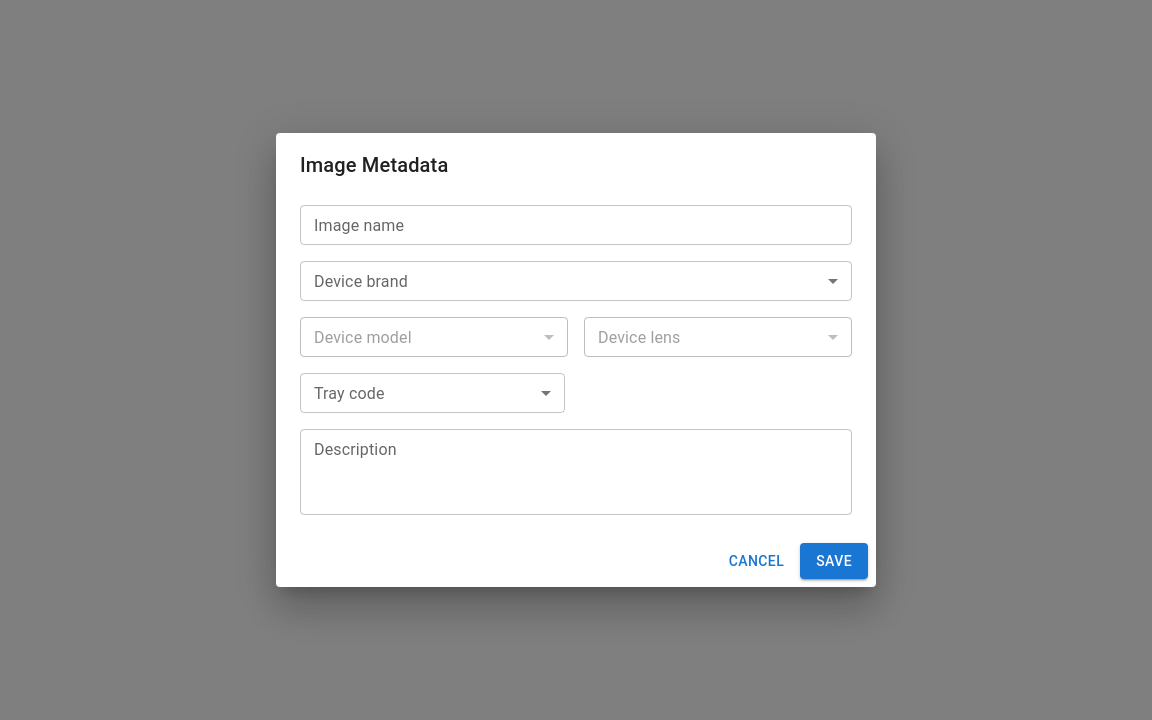
Test: MetadataDialog › image mode › shows an invalid error for an image name with forbidden characters
This screenshot has width=1152, height=720.
In the field labelled "Image name": (576, 225) [300,205,852,245], type "bad name!"
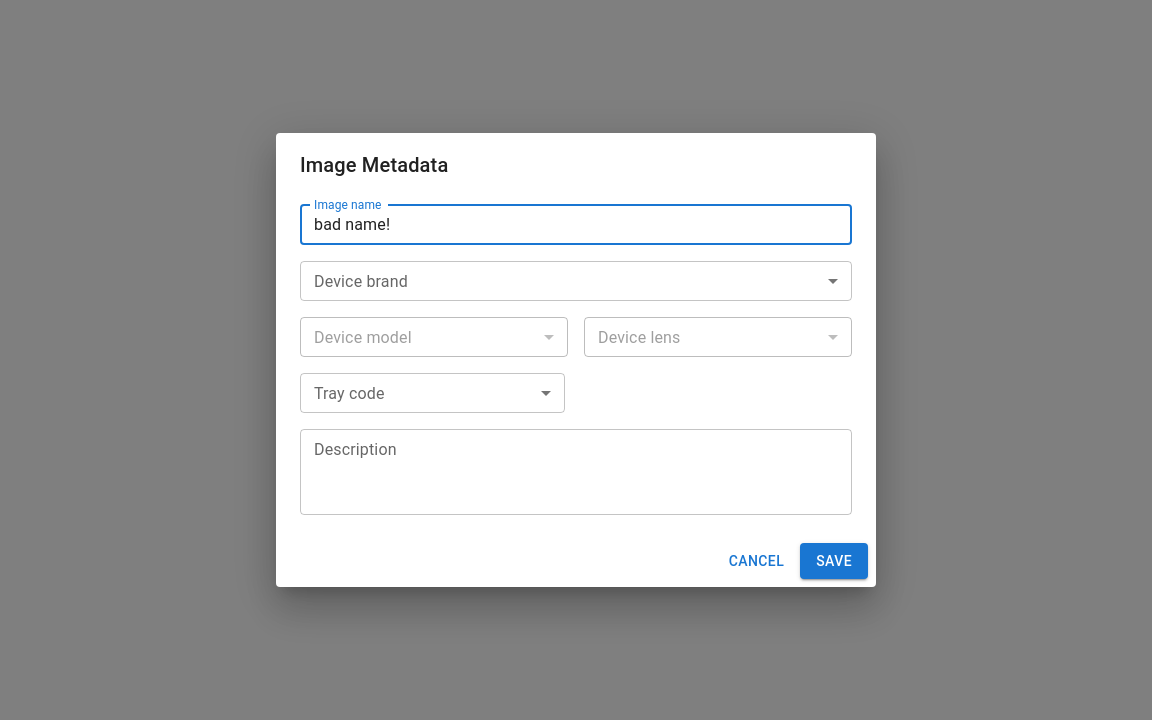
Click the button "Save": (834, 561) [800,543,868,579]
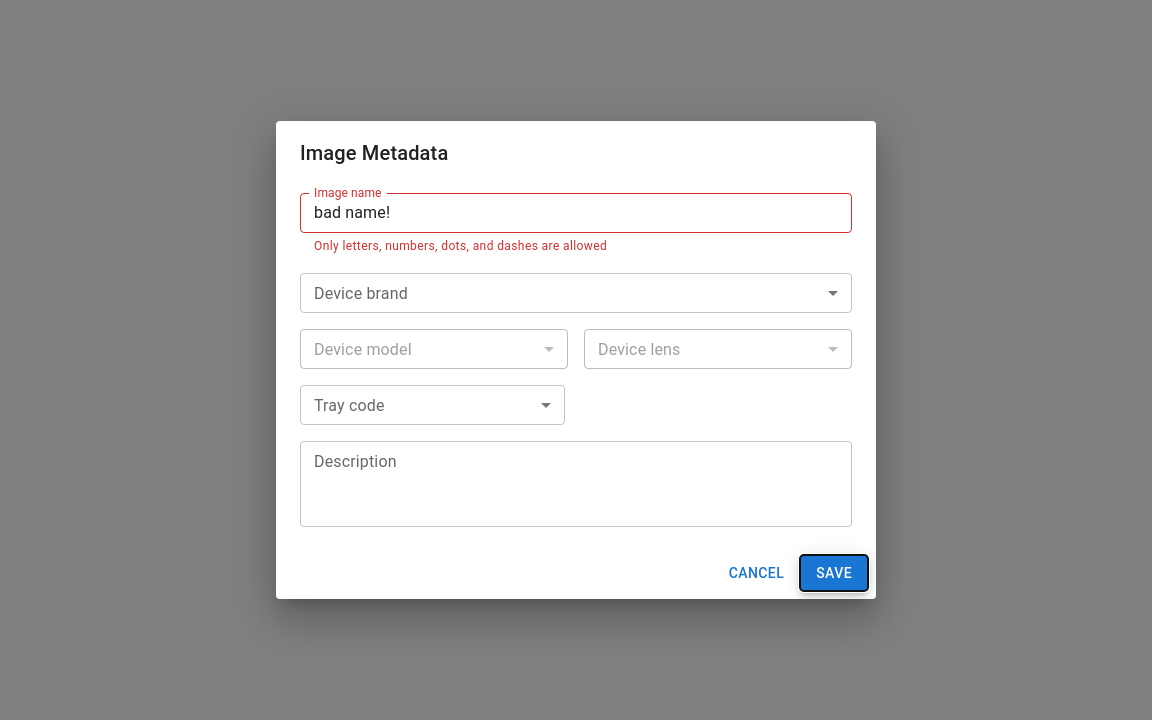
Now the text "Only letters, numbers, dots, and dashes are allowed" is shown, box [314,239,607,253]
